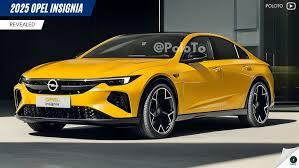opel: (46, 77, 60, 91)
